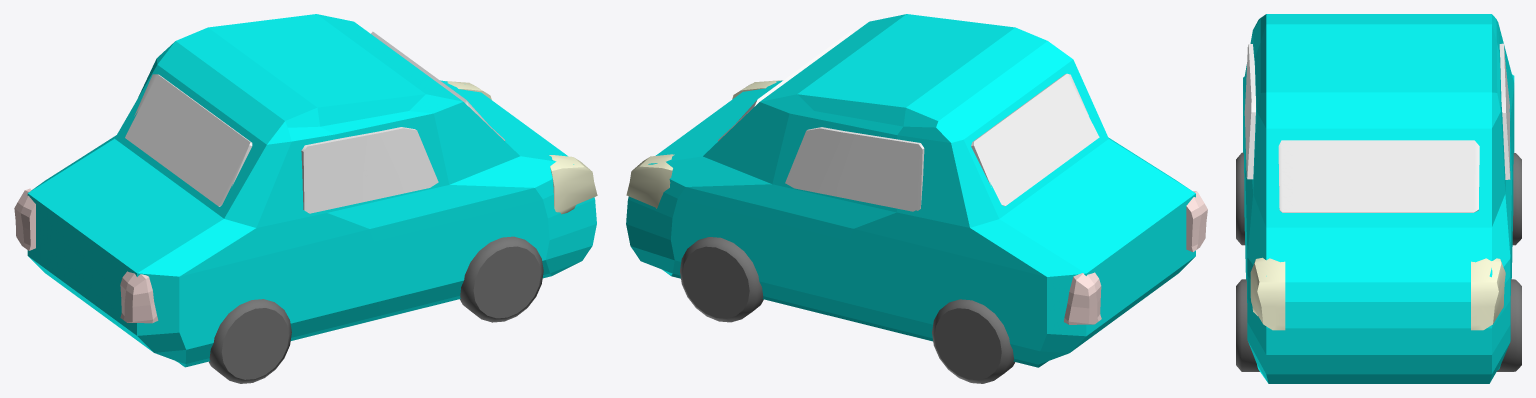
File: CarroAzul.fbx
The picture shows the model from 3 angles, left to right: view 1: azimuth 30°, elevation 25°; view 2: azimuth 150°, elevation 25°; view 3: azimuth 270°, elevation 25°; orthographic projection. The views are drawn at different scales.
Parts seen in each view (by area): view 1: pCube1, pCube10, pCube8, pCylinder1, pCylinder2, pCube11, pCube9, pCube6; view 2: pCube1, pCube10, pCube12, pCylinder3, pCylinder4, pCube11, pCube9, pCube6; view 3: pCube1, pCube6, pCube9, pCube8, pCylinder1, pCylinder3, pCube12, pCylinder4, pCylinder2.
Part boxes in pixels (bbox=[...]): pCube1: bbox=[27, 14, 596, 367]; pCube10: bbox=[125, 74, 252, 206]; pCube8: bbox=[301, 127, 438, 213]; pCylinder1: bbox=[460, 236, 543, 322]; pCylinder2: bbox=[209, 299, 291, 383]; pCube11: bbox=[14, 188, 158, 323]; pCube9: bbox=[445, 81, 597, 214]; pCube6: bbox=[371, 31, 505, 140]; pCube1: bbox=[626, 14, 1195, 367]; pCube10: bbox=[971, 73, 1099, 206]; pCube12: bbox=[785, 127, 924, 211]; pCylinder3: bbox=[680, 237, 763, 322]; pCylinder4: bbox=[932, 299, 1015, 383]; pCube11: bbox=[1063, 191, 1207, 324]; pCube9: bbox=[626, 80, 781, 208]; pCube6: bbox=[717, 31, 853, 141]; pCube1: bbox=[1243, 14, 1514, 383]; pCube6: bbox=[1278, 140, 1479, 212]; pCube9: bbox=[1250, 257, 1505, 330]; pCube8: bbox=[1244, 44, 1255, 179]; pCylinder1: bbox=[1236, 279, 1259, 371]; pCylinder3: bbox=[1496, 279, 1521, 371]; pCube12: bbox=[1499, 43, 1510, 179]; pCylinder4: bbox=[1512, 153, 1521, 245]; pCylinder2: bbox=[1236, 152, 1244, 245].
Size of the model in its own units: 21.67 by 10.94 by 11.09.
